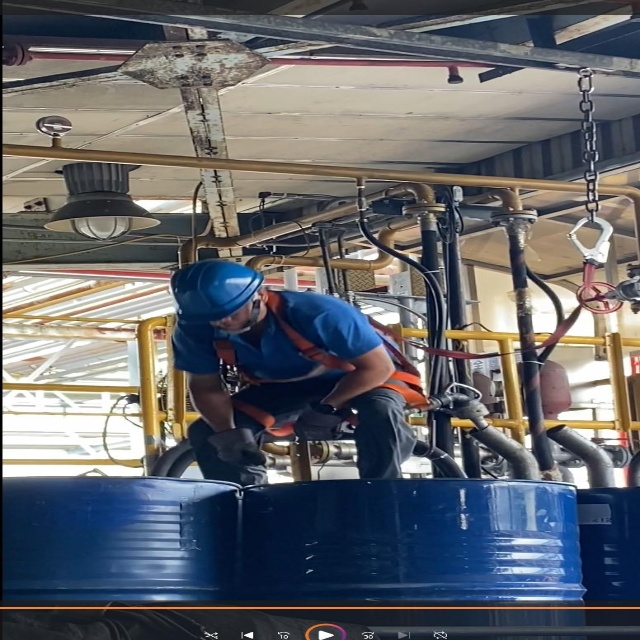Arnes_seguridad: (203, 288, 429, 442)
